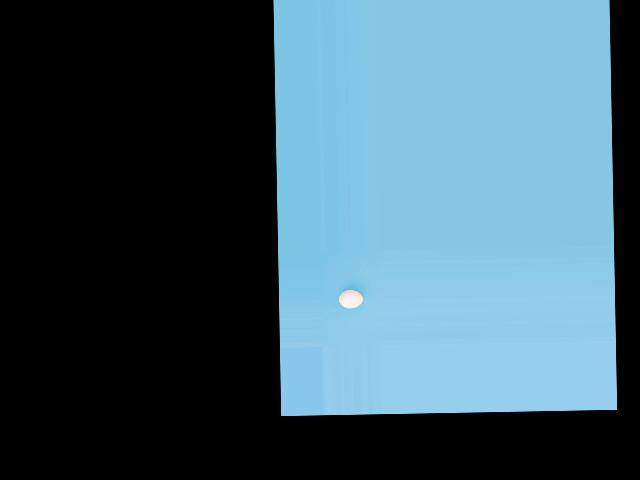egg: (338, 289, 363, 308)
